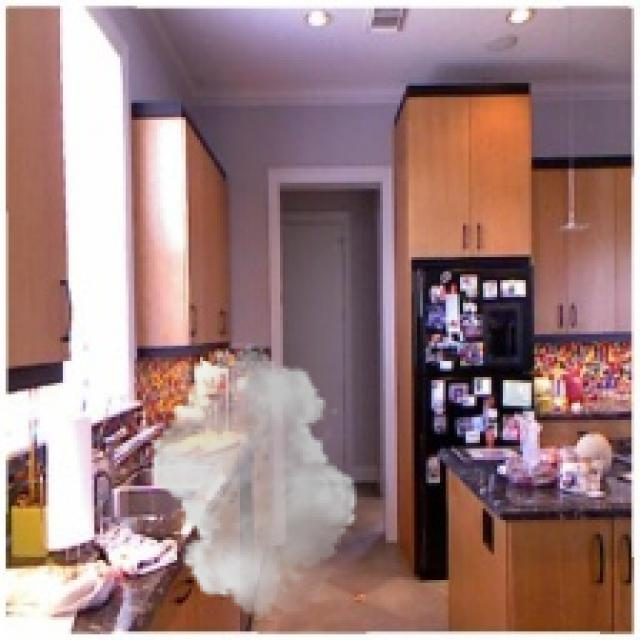smoke: (143, 343, 366, 620)
